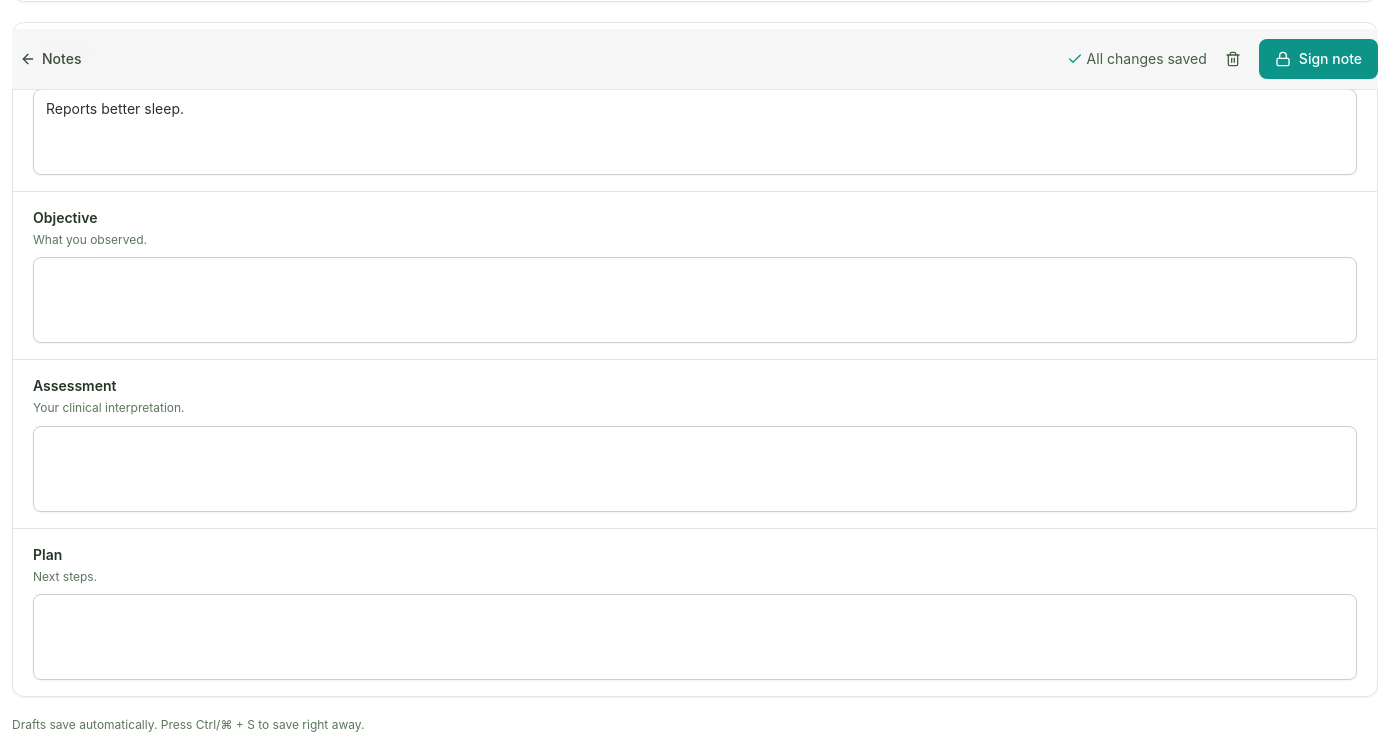
NoteEditorPage › shows one field per section with its guidance and saves edits on blur
The width and height of the screenshot is (1390, 733).
(page scrolled)
expect the text box labelled "Subjective" holds "Reports better sleep.": met, box [33,88,1357,174]
Type "Continue CBT" into the text box labelled "Plan". click: (695, 637)
box: [33,594,1357,680]
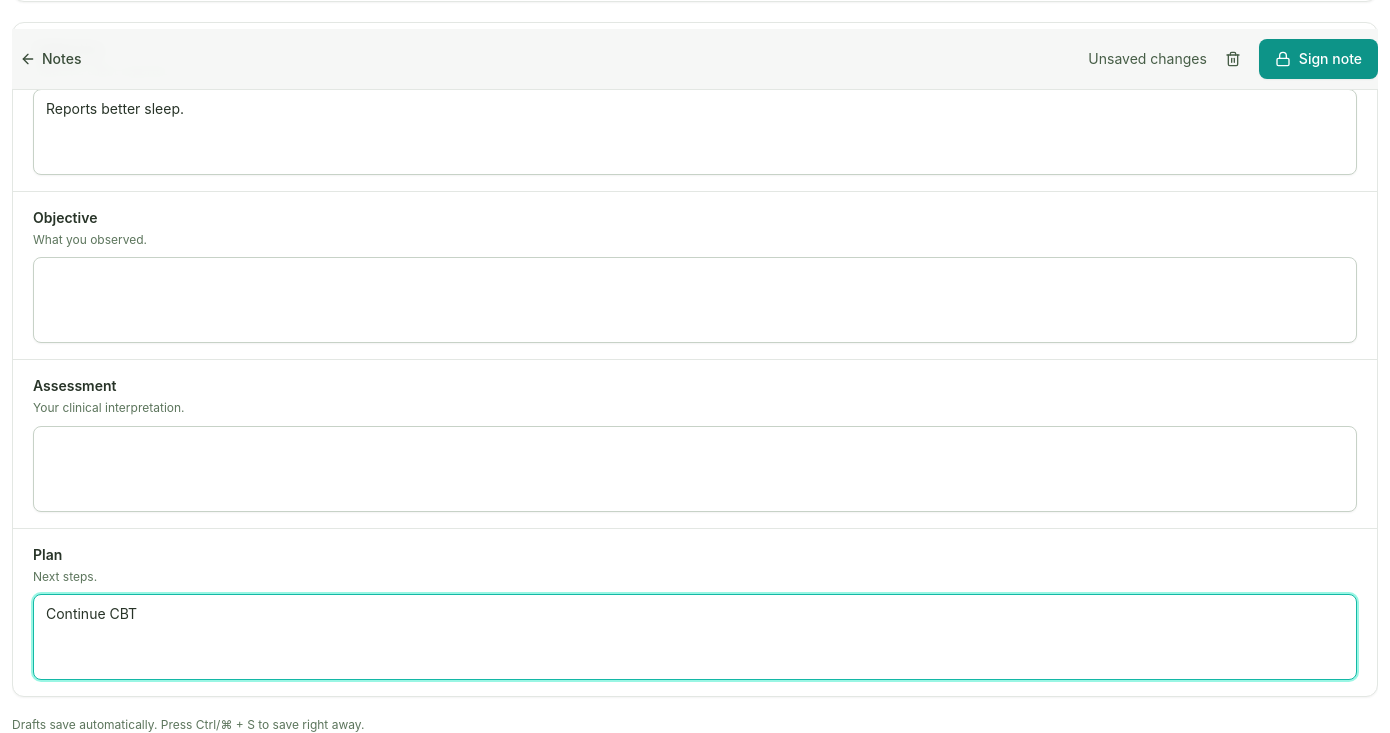
expect the text "Unsaved changes" is shown: met, box [1088,49,1207,69]
Press Tab
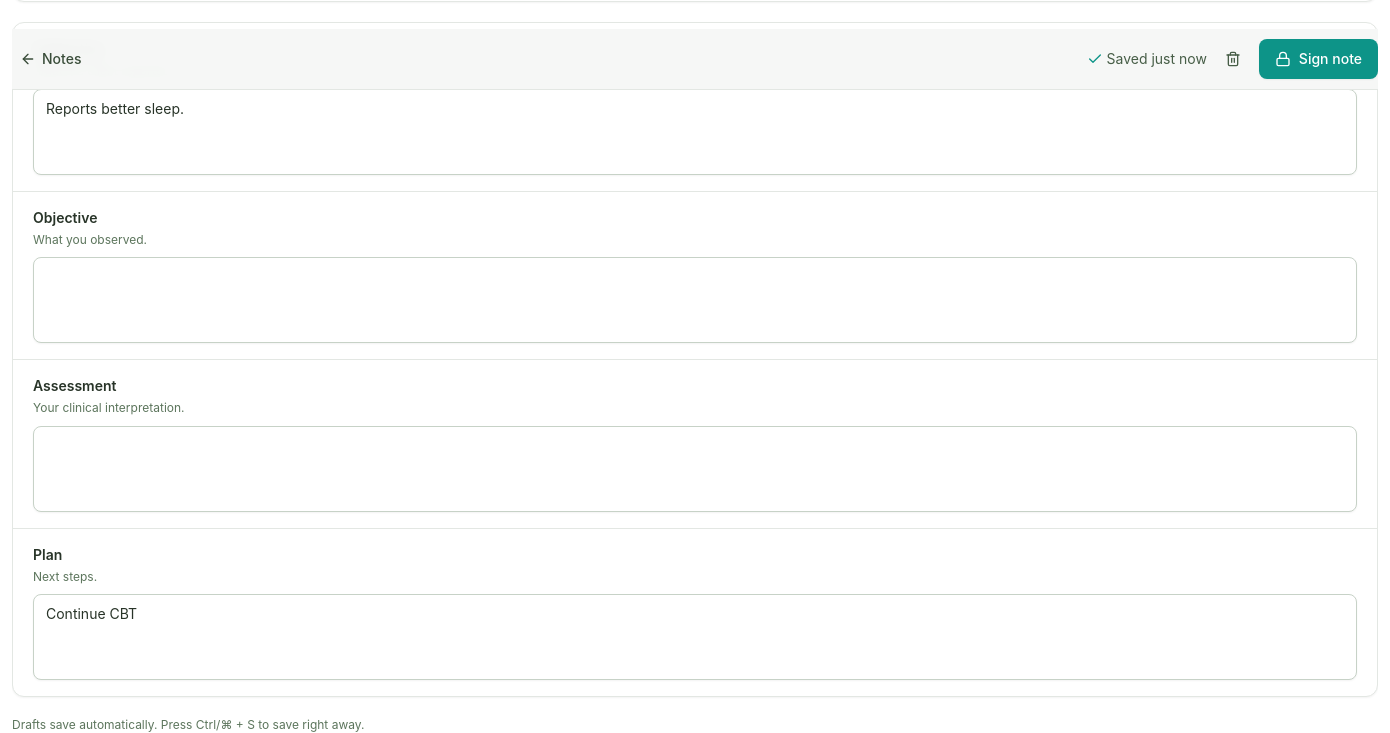
expect the text "Saved just now" is shown: met, box [1086,49,1207,69]
